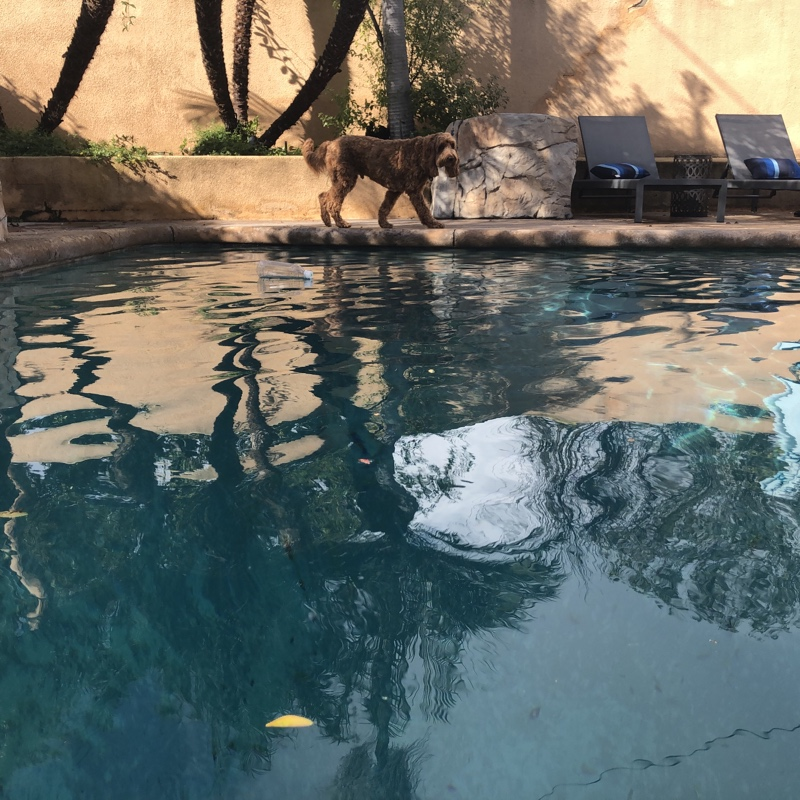Plastic Bottle: (253, 260, 313, 284)
